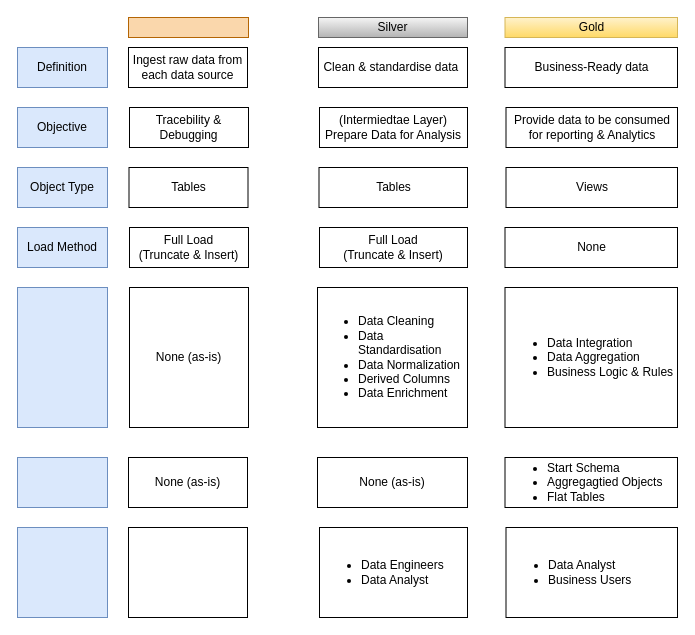
Some shapes in this 695 by 635 pixel diagram are drawn without their labels. Each missing label, with the centre of its shape:
"Bronze" goes at pixel 188 27.
"Data Engineers" goes at pixel 188 572.
"Data Modelling" goes at pixel 62 482.
"Data Tramsformation" goes at pixel 62 357.
"Target Audience" goes at pixel 62 572.
